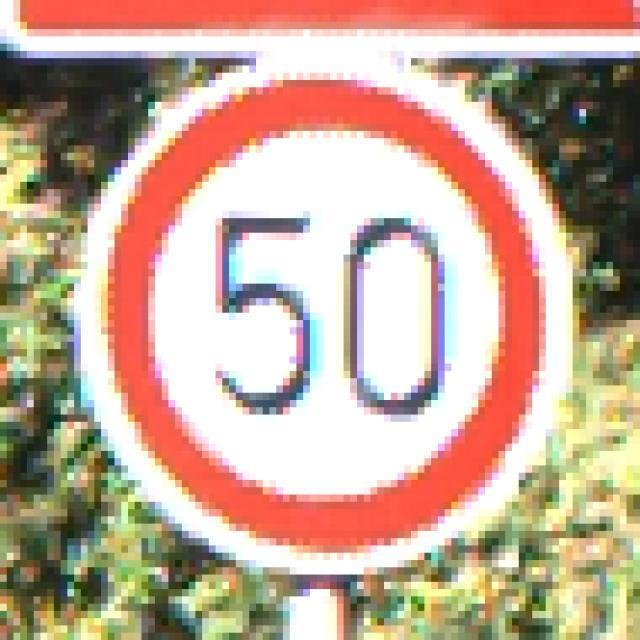speed limit 50: (76, 54, 576, 576)
